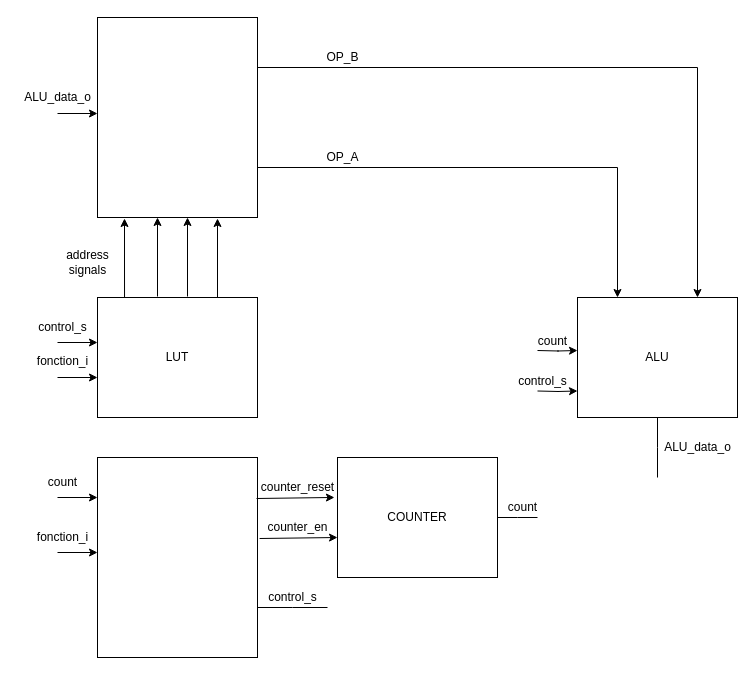
The diagram is 755 pixels wide and 675 high, and some of its shapes have lost their labels. The shapes that lost their labels are listed below. From the top down, each one's box as (x1, y1, x2, y2) in pixels, then its label:
(96, 16, 258, 218): POLY_MEM
(96, 456, 258, 658): FSM
